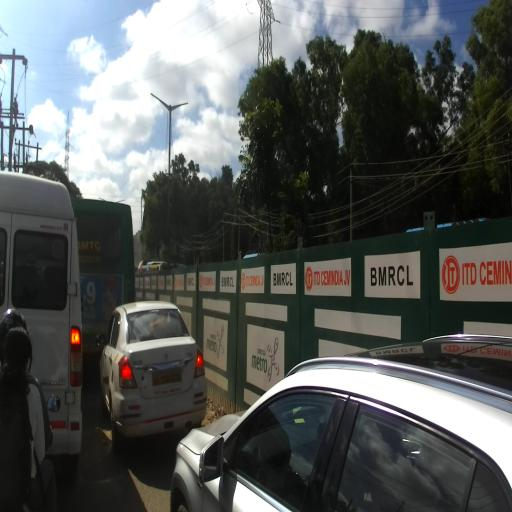street_light_0: (150, 93, 172, 114), (169, 102, 188, 115), (116, 199, 125, 204), (99, 197, 106, 202)
